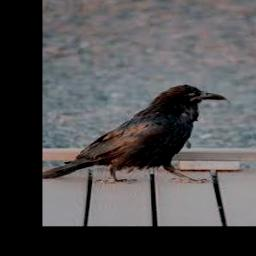Crow: (42, 84, 227, 183)
